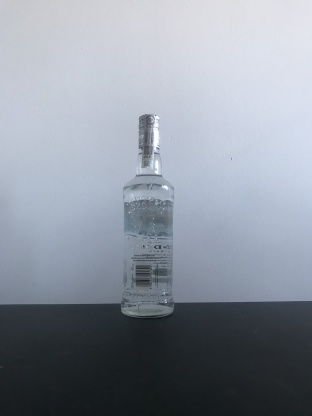nakretka: (136, 110, 162, 151)
